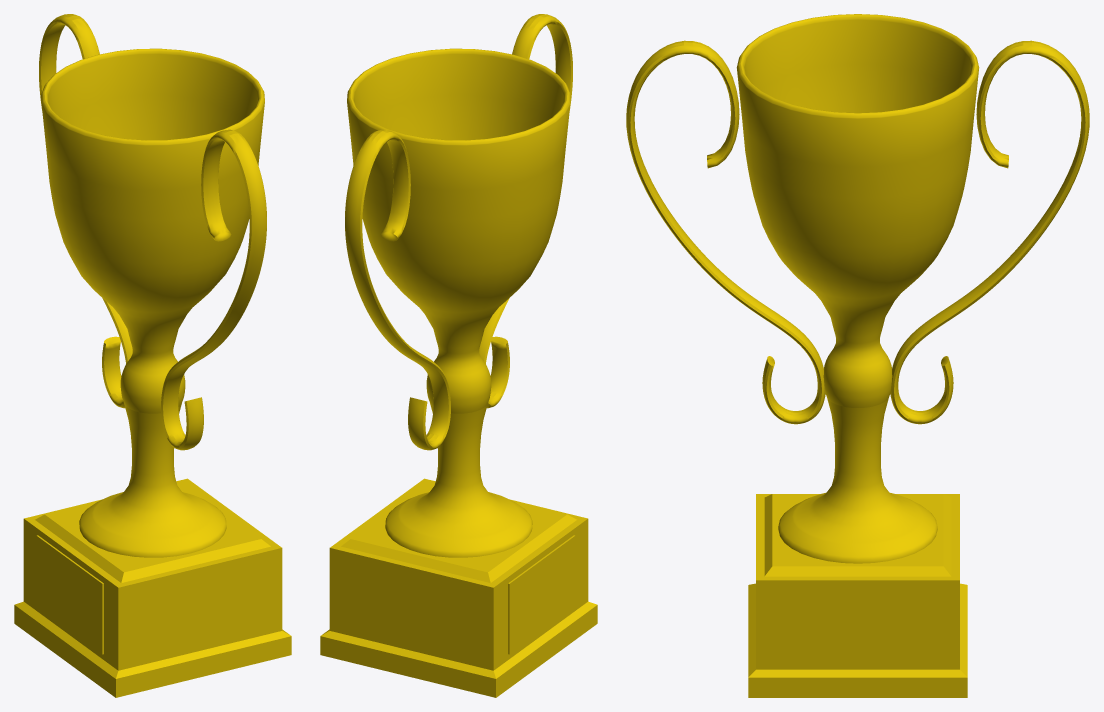
File: coupe full gold.fbx
3 views of the same model, side by side, from view 1: azimuth 30°, elevation 25°; view 2: azimuth 150°, elevation 25°; view 3: azimuth 270°, elevation 25° (orthographic). The views are drawn at different scales.
Visible parts, largest first — view 1: Cylinder.002; view 2: Cylinder.002; view 3: Cylinder.002.
Part boxes in pixels (x1,y1,x2,y2): Cylinder.002: (14, 14, 291, 697); Cylinder.002: (320, 14, 597, 697); Cylinder.002: (626, 14, 1089, 697).
Size of the model in its own units: 221 by 613 by 423.
